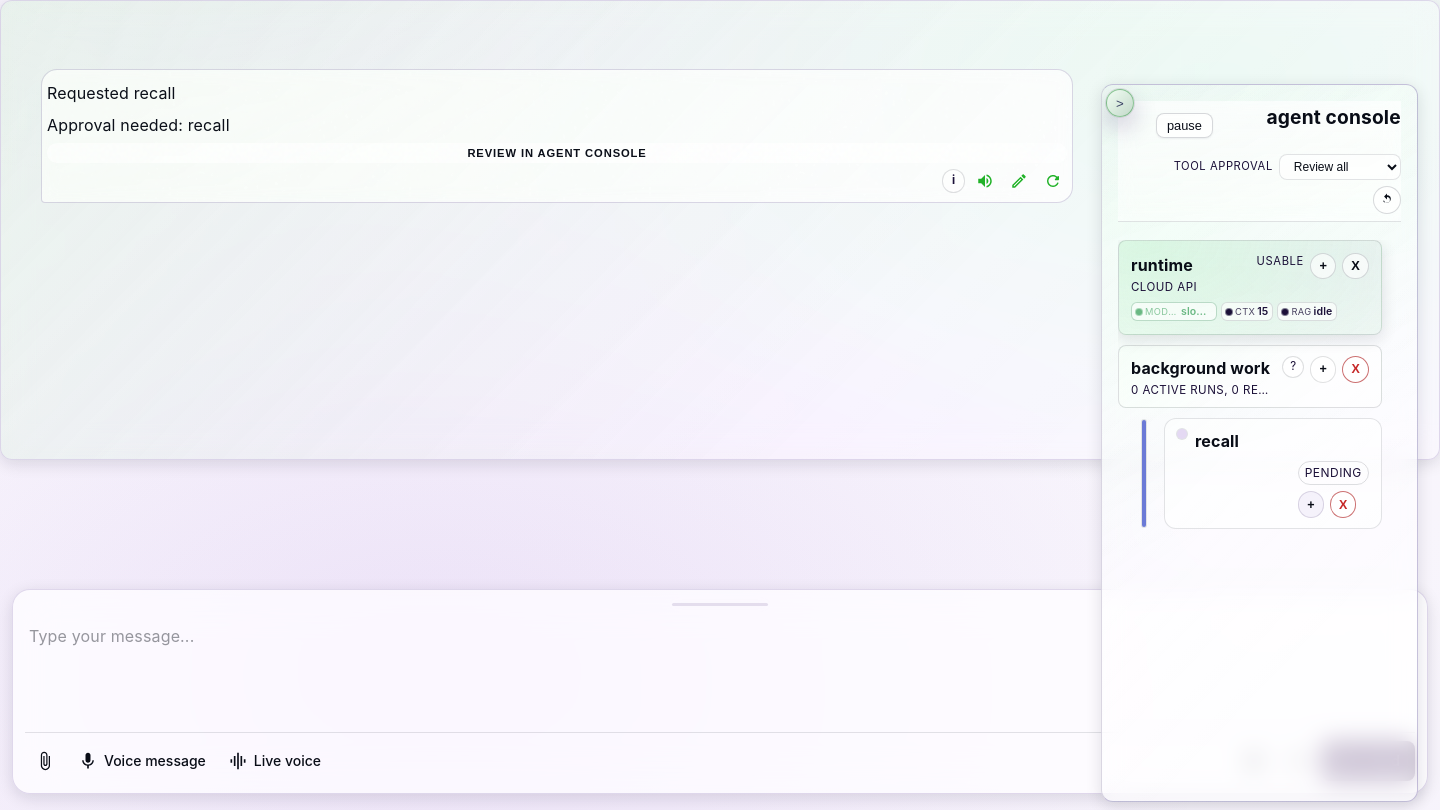
Test: Chat request lifecycle › opens the matching compact console card from the in-chat review link
Click the button "Review in Agent Console": [557, 153] box [47,143,1067,163]
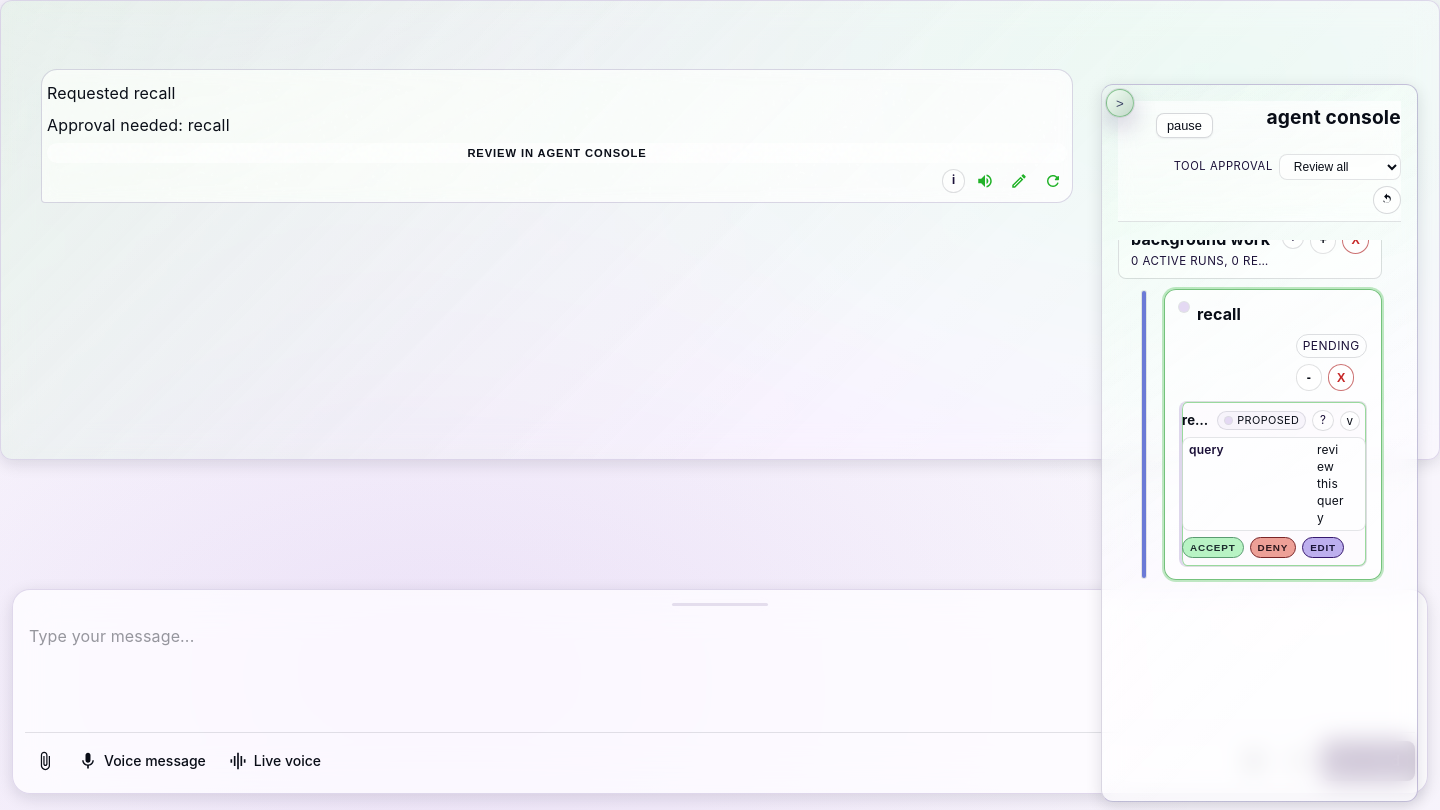
Expected: the button "recall proposed ? v query review this query Accept Deny Edit" is shown, [1179,401,1367,567]
Expected: the element with class "agent-activity-body" is shown, [1182,437,1366,531]
Expected: the button with class "accept" is enabled, [1182,537,1244,558]
